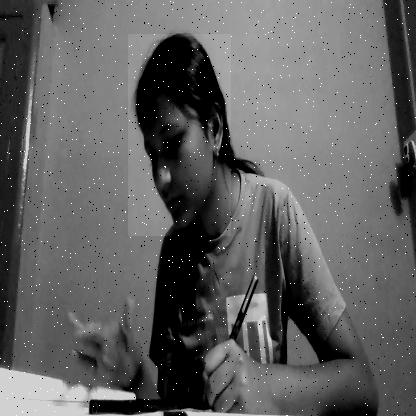Distracted: (128, 35, 231, 236)
